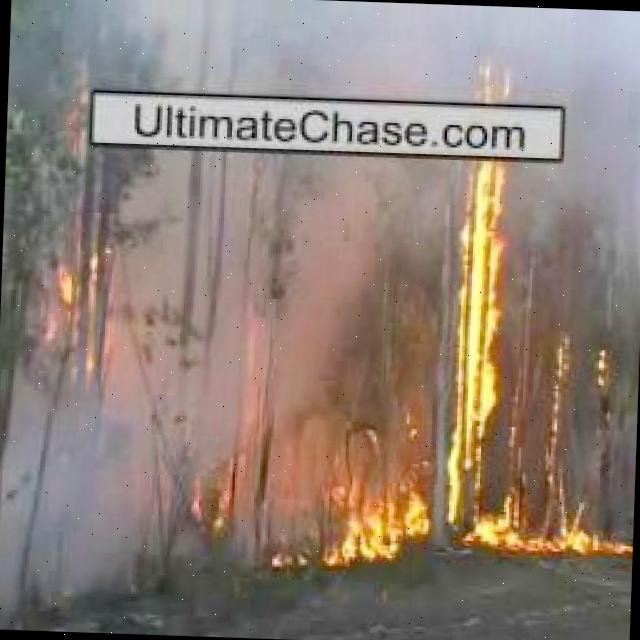fire: (448, 58, 522, 564), (38, 228, 112, 382), (315, 483, 426, 578), (182, 452, 232, 538), (532, 522, 622, 554)
